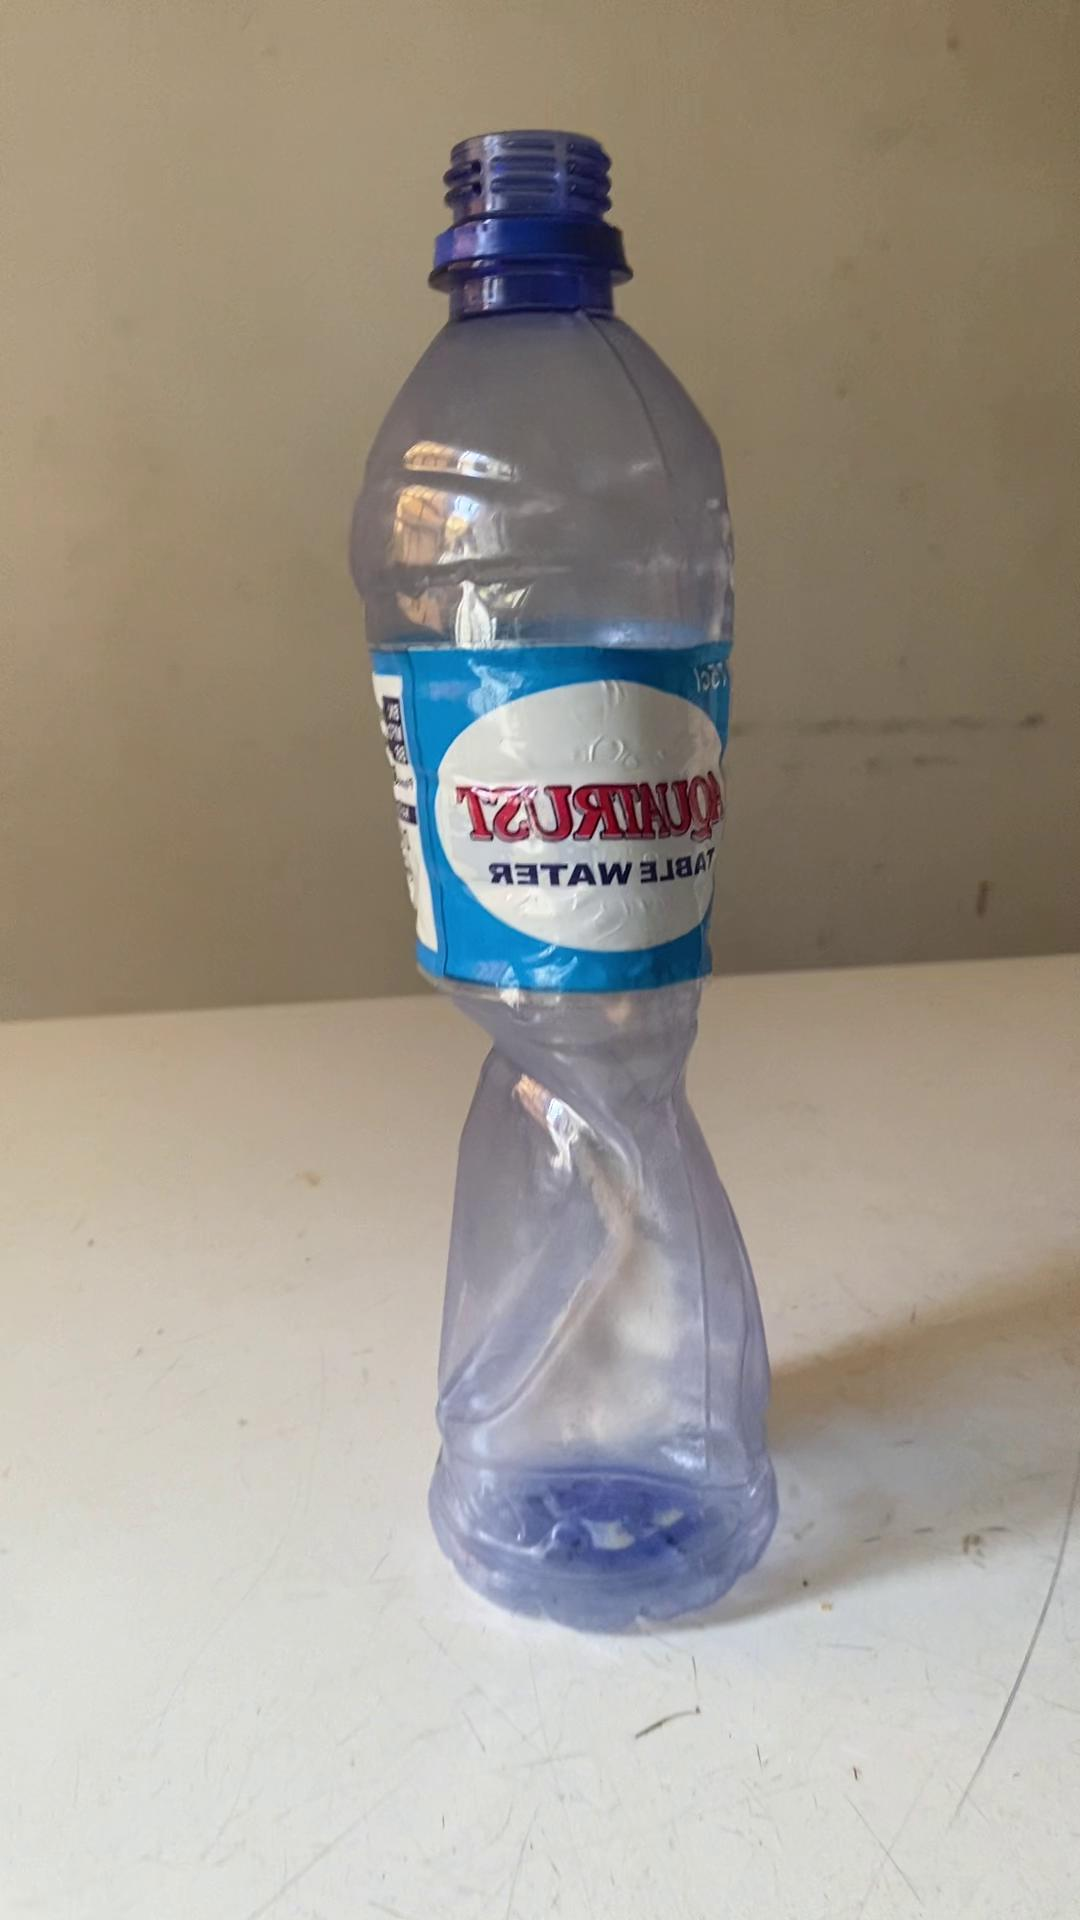crumbled: (334, 117, 793, 1634)
label: (389, 641, 729, 993)
no-cap: (429, 121, 622, 264)
